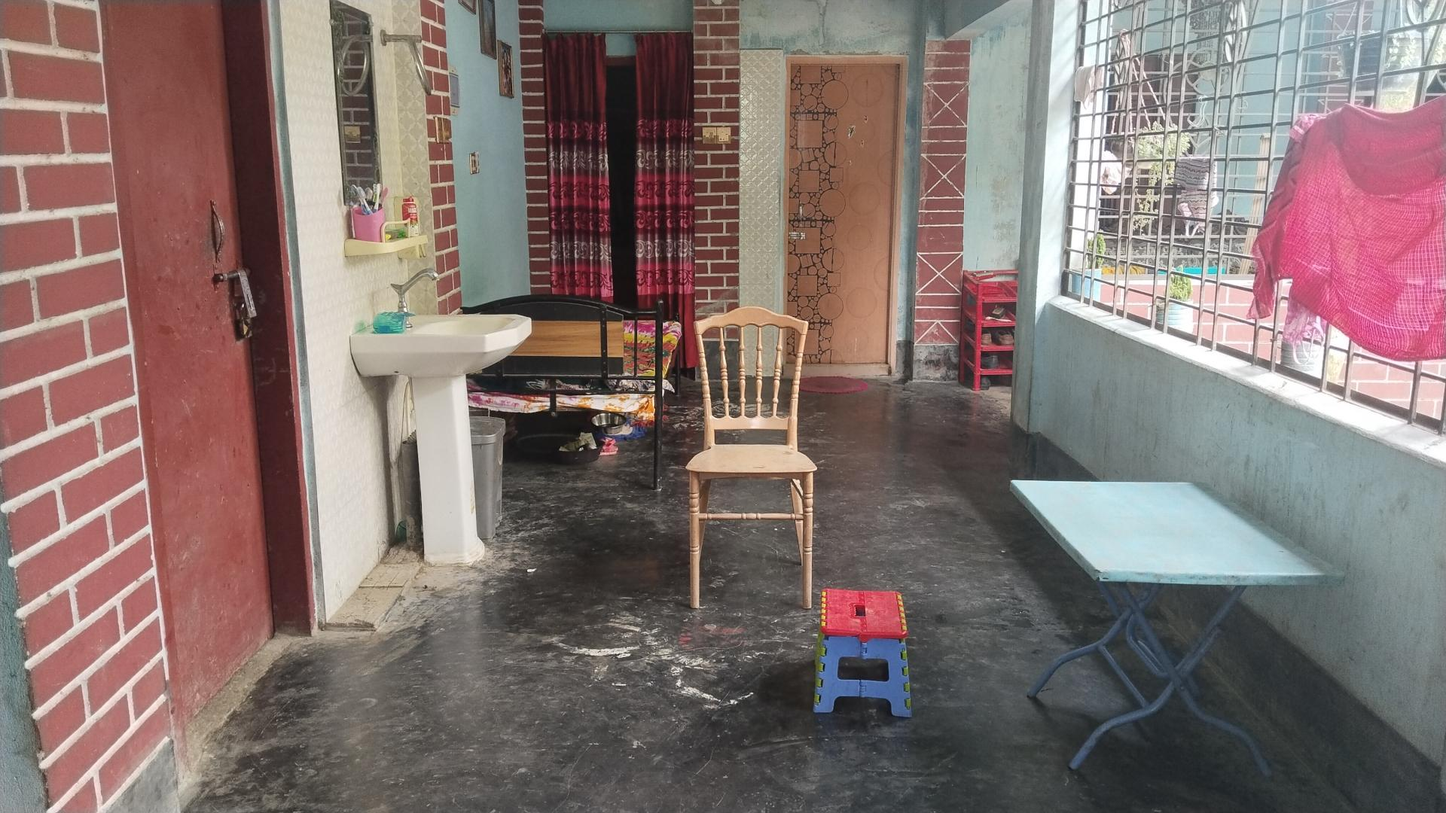Chair: (684, 307, 818, 607)
Door: (787, 60, 894, 366)
Stool: (820, 588, 911, 721)
Table: (1009, 473, 1334, 760)
